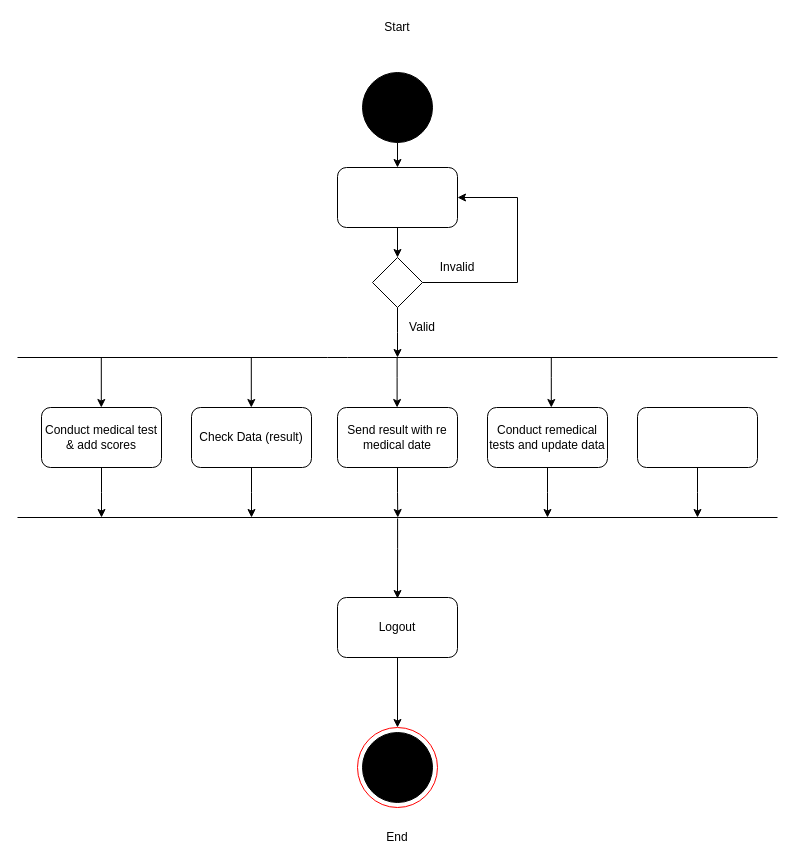
This 796x864 diagram has some shape labels left out. The centre of each missing label's shape, as x and y in pixels:
"Login" belongs at [397,197].
"Submit data to immidiate super admin" belongs at [697,437].
